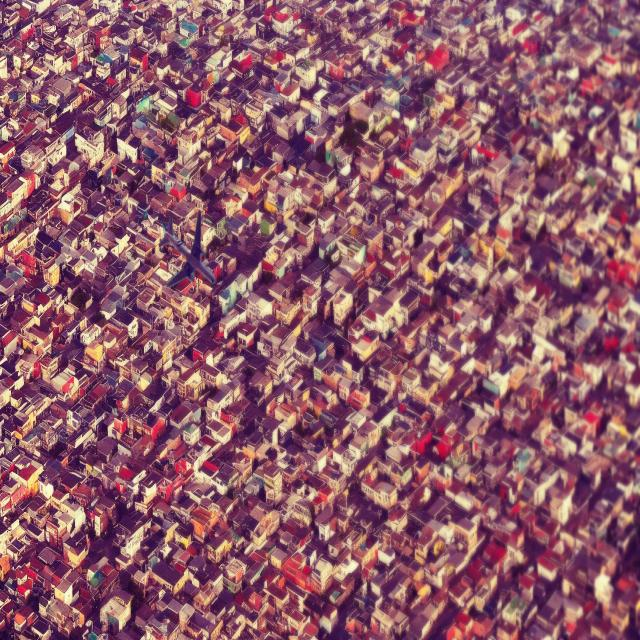airplane: (155, 210, 219, 288)
